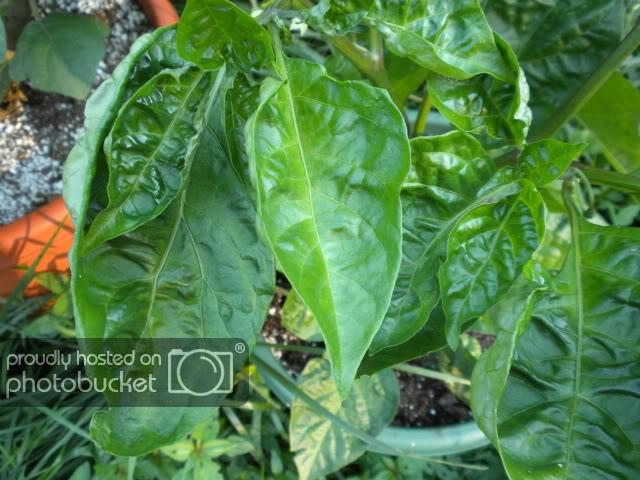Bell_pepper leaf spot: (238, 48, 414, 402), (87, 64, 216, 258), (436, 193, 537, 353)
